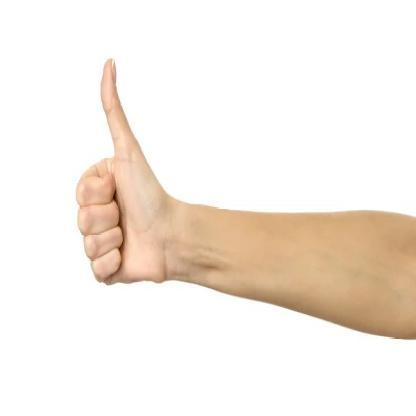thumb_up: (69, 52, 174, 302)
